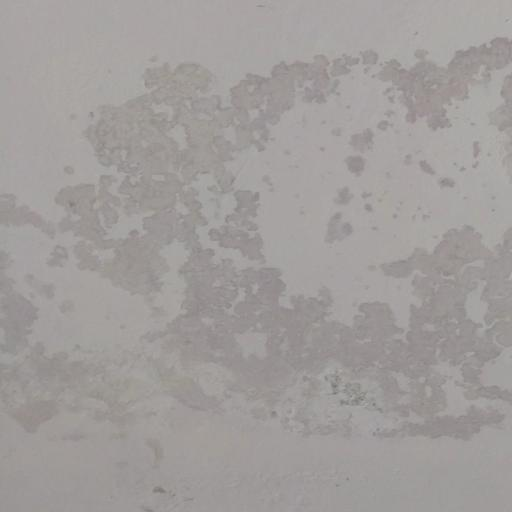peeling: (0, 19, 512, 512)
